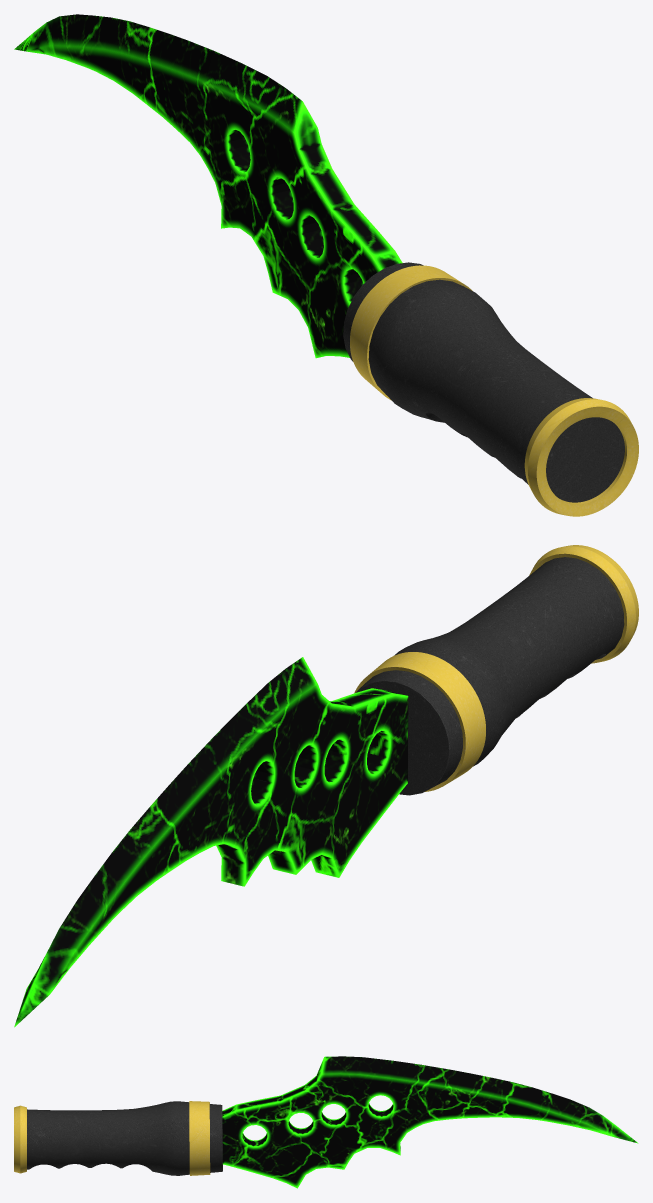
3 renders of one model, top to bottom at view 1: azimuth 30°, elevation 25°; view 2: azimuth 150°, elevation 25°; view 3: azimuth 270°, elevation 25°, orthographic. The views are drawn at different scales.
Parts seen in each view (by area): view 1: blade.003, handle brace.002, handle brace; view 2: blade.003, handle brace.002, handle brace; view 3: blade.003, handle brace.002, handle brace.
Boxes of the visible parts, x1,y1,x2,y2 form: blade.003: (14, 14, 402, 358); handle brace.002: (343, 262, 638, 516); handle brace: (350, 265, 472, 400); blade.003: (14, 657, 408, 1027); handle brace.002: (355, 545, 638, 795); handle brace: (354, 652, 485, 791); blade.003: (222, 1056, 638, 1188); handle brace.002: (14, 1101, 222, 1175); handle brace: (189, 1101, 210, 1175).
Size of the model in its own units: 0.0777 by 0.1477 by 0.6481.
Materials: 3 (3 with a texture image).
